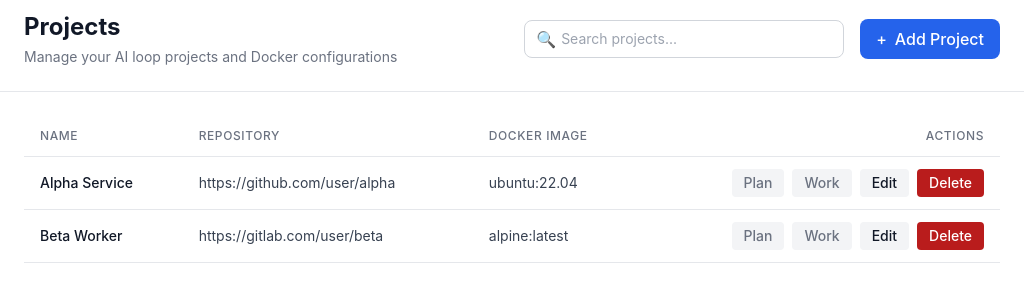
Test: ProjectsTab › Search › shows a no-results message instead of the onboarding empty state
Type "nonexistent" into the search field labelled "Search projects" at (684, 39), box [524,20,844,58]
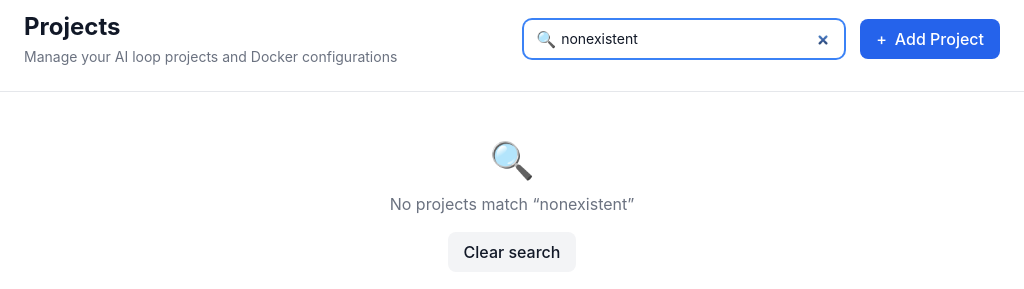
Expected: the text "No projects match “nonexistent”" is shown, [390,192,634,216]
